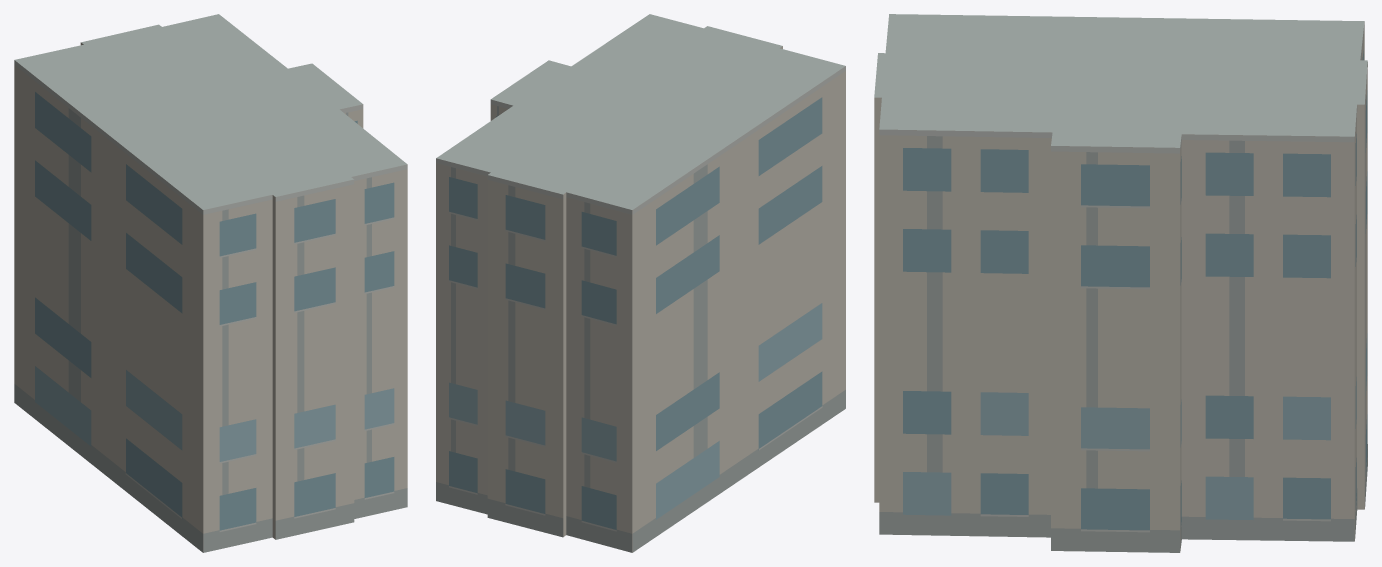
Rendered from survey-upis-32764184.glb.
3 views of the same model, side by side, from view 1: azimuth 30°, elevation 25°; view 2: azimuth 150°, elevation 25°; view 3: azimuth 270°, elevation 25° (orthographic). The views are drawn at different scales.
Parts seen in each view (by area): view 1: survey-upis-32764184.tmp; view 2: survey-upis-32764184.tmp; view 3: survey-upis-32764184.tmp.
Boxes of the visible parts, x1,y1,x2,y2 form: survey-upis-32764184.tmp: (14, 14, 407, 552); survey-upis-32764184.tmp: (436, 14, 845, 552); survey-upis-32764184.tmp: (874, 14, 1367, 552).
Size of the model in its own units: 12.29 by 17.33 by 19.15.
